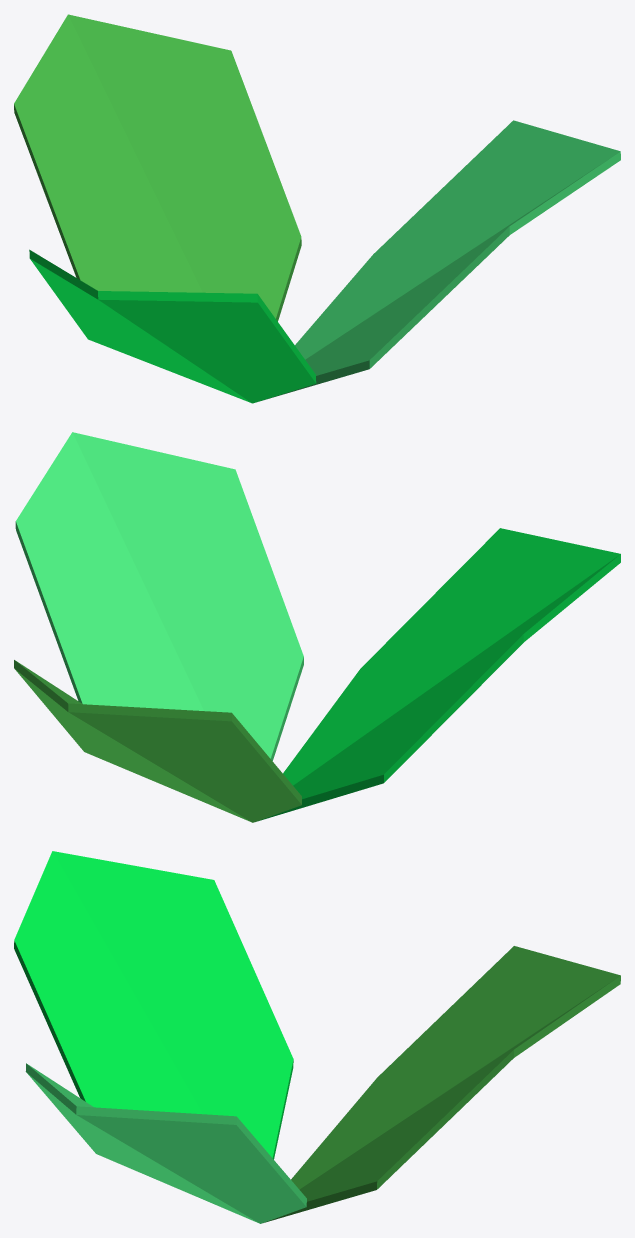
The model's file is Leaf1.fbx.
3 views of the same model, one above another, from view 1: azimuth 30°, elevation 25°; view 2: azimuth 150°, elevation 25°; view 3: azimuth 270°, elevation 25° (orthographic). The views are drawn at different scales.
Parts seen in each view (by area): view 1: Leaf; view 2: Leaf; view 3: Leaf.
Boxes of the visible parts, <box> form: Leaf: <box>14,14,620,403</box>; Leaf: <box>14,432,620,822</box>; Leaf: <box>14,851,620,1223</box>.
Size of the model in its own units: 0.5761 by 0.2615 by 0.5788.
